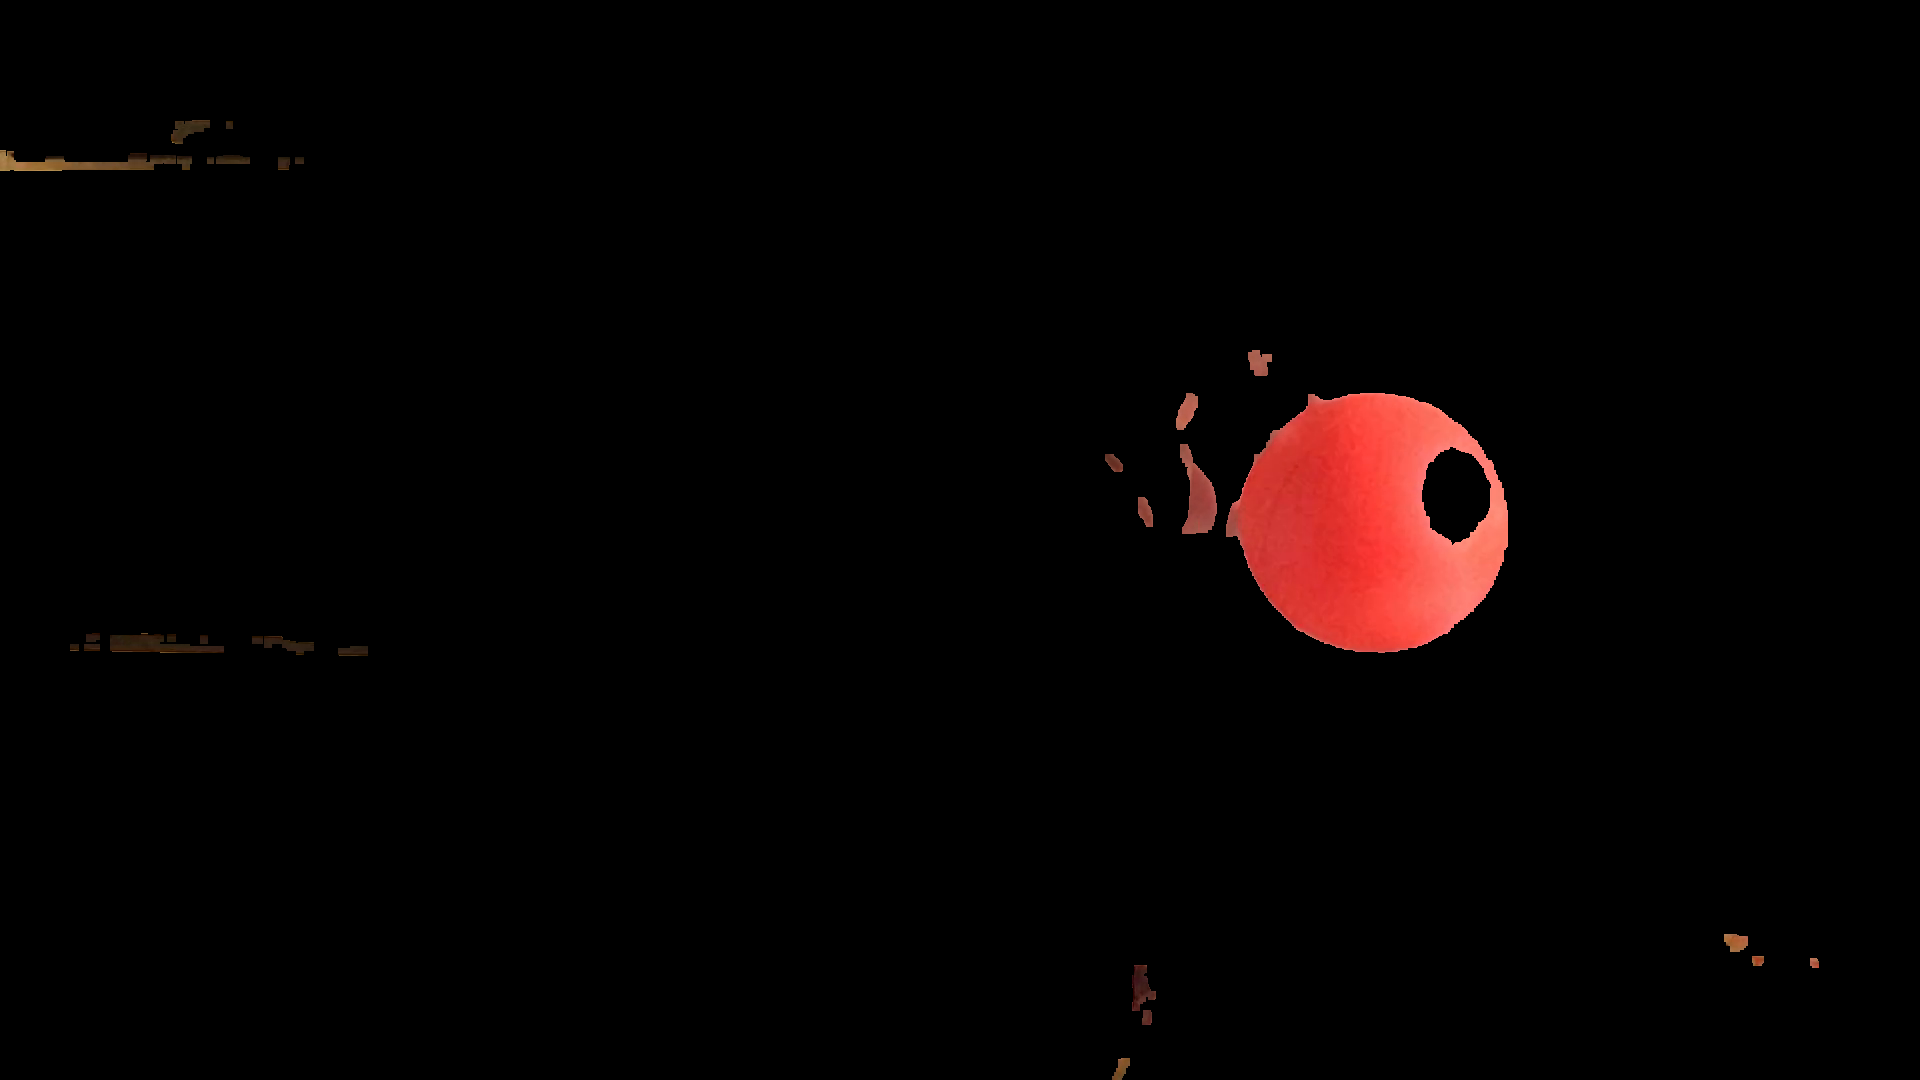Ball: (1238, 390, 1511, 658)
